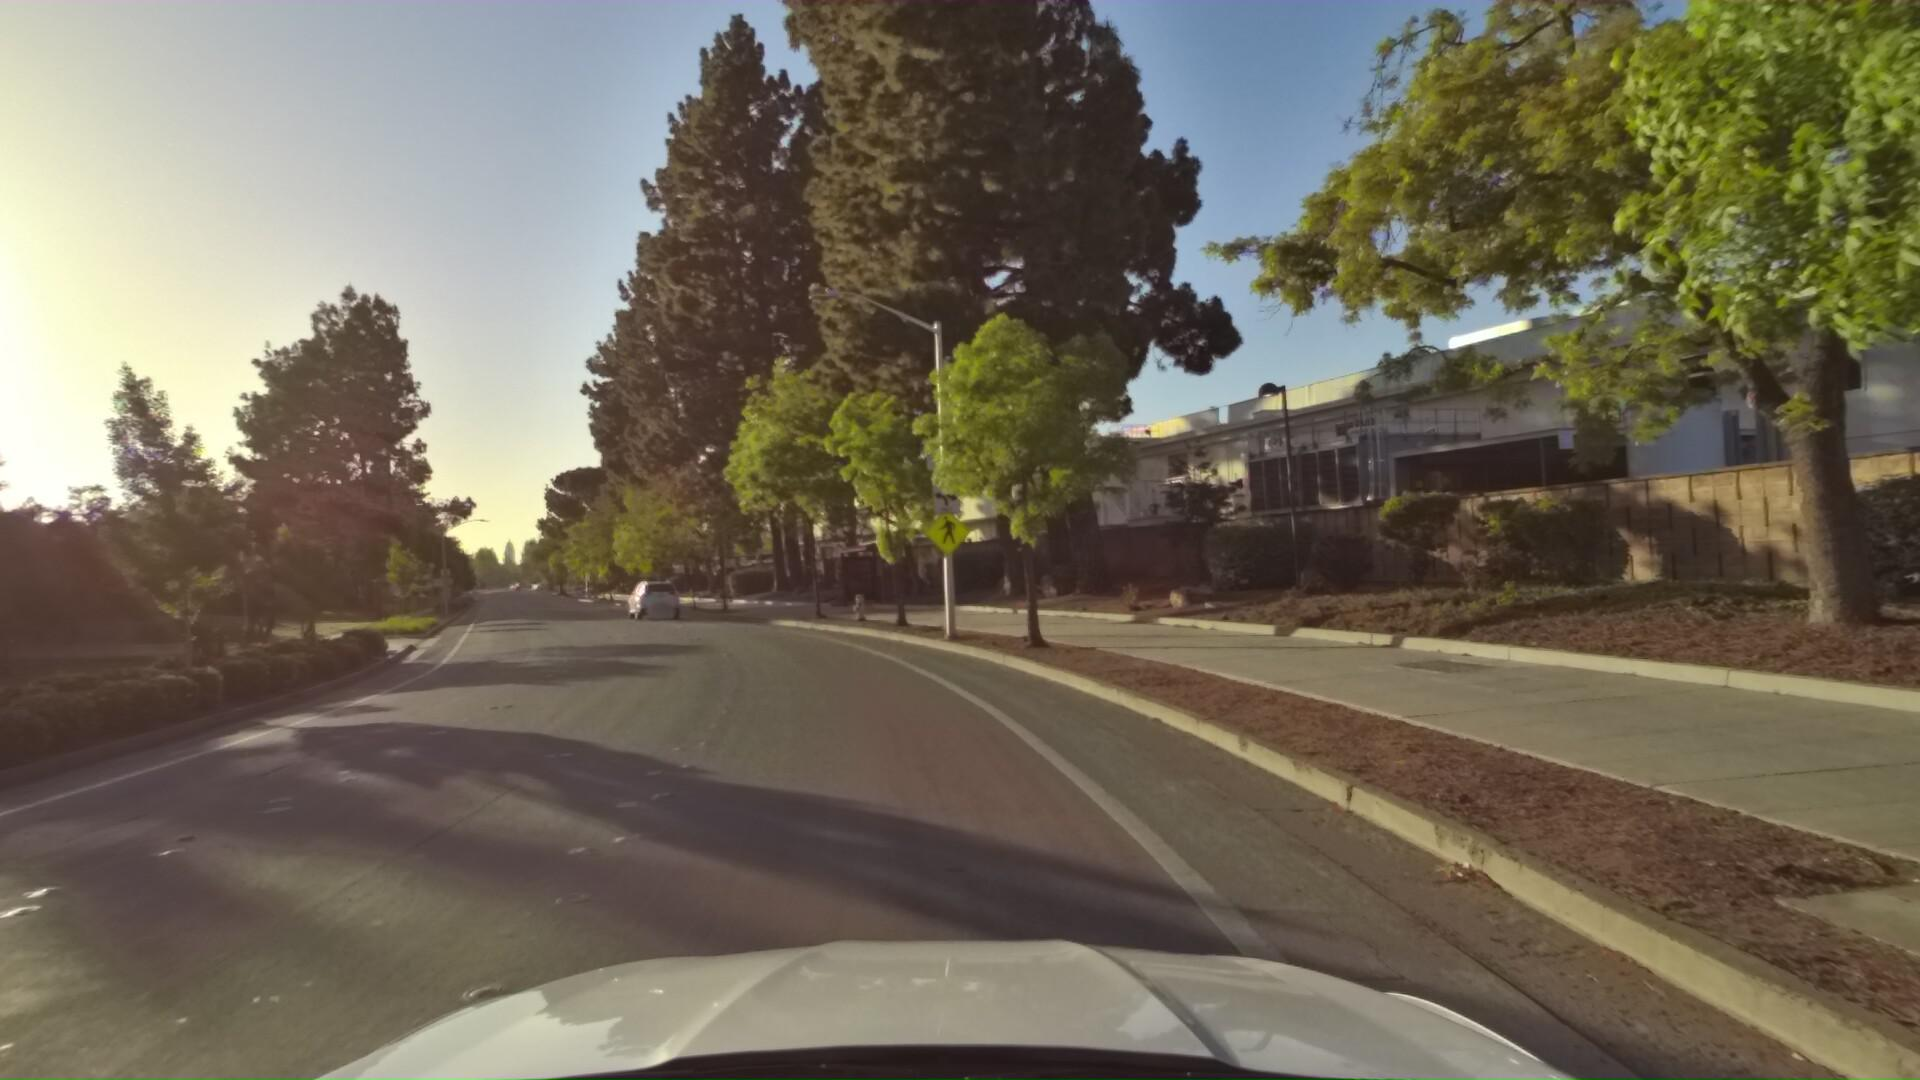car: (622, 575, 683, 621)
